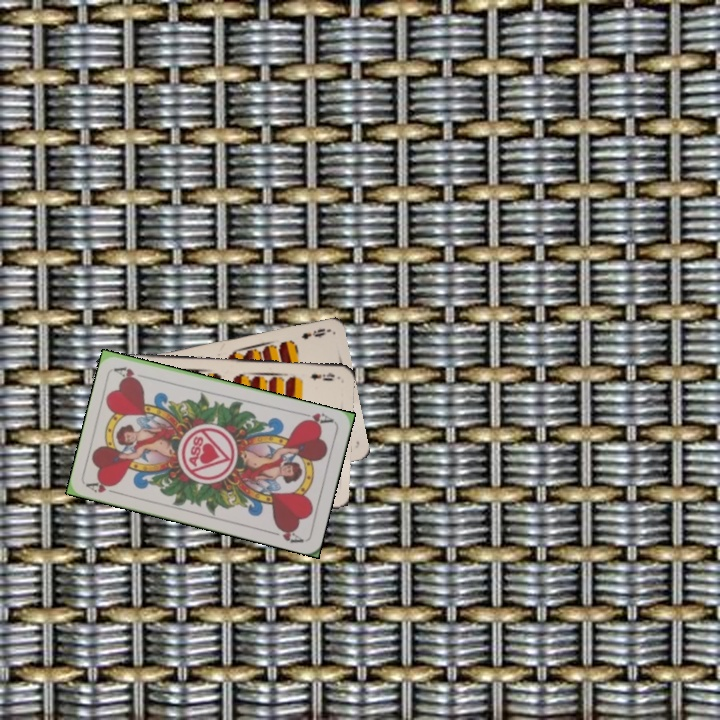E9: (298, 324, 330, 342), (307, 368, 337, 383)
HA: (296, 408, 336, 429), (83, 477, 123, 497)
